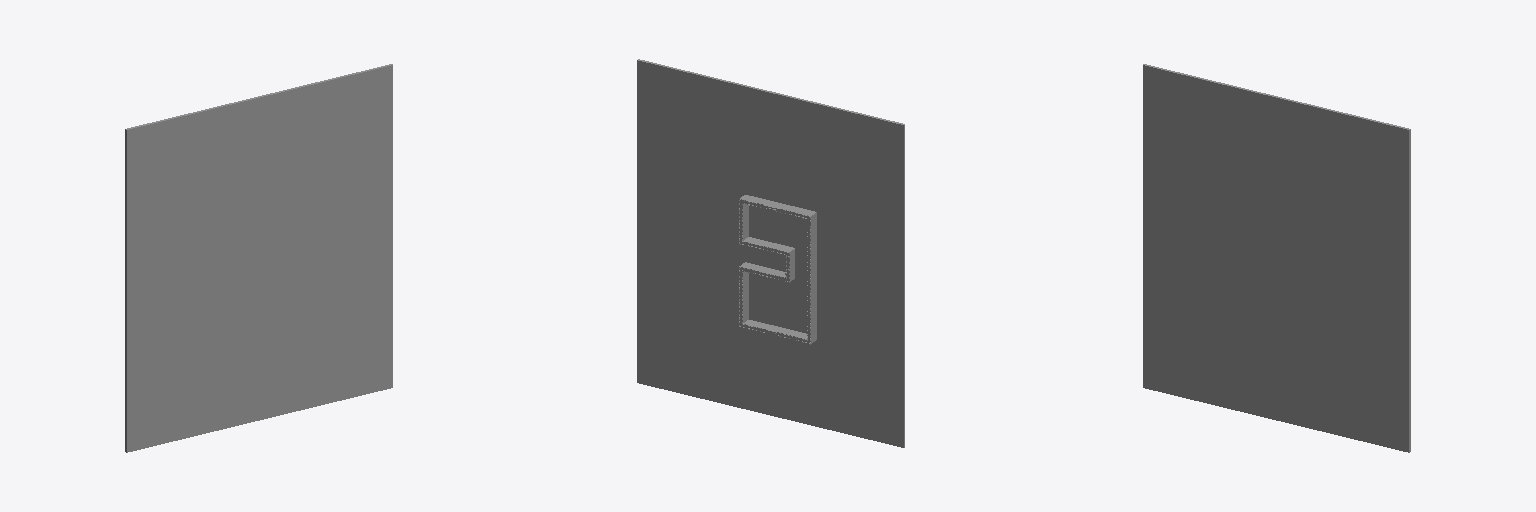
Rendered from Mapa02.obj.
3 renders of one model, left to right at view 1: azimuth 30°, elevation 25°; view 2: azimuth 150°, elevation 25°; view 3: azimuth 330°, elevation 25°, orthographic.
Parts seen in each view (by area): view 1: AAA_1_AAA_1_AAA_1_AAA_1; view 2: AAA_1_AAA_1_AAA_1_AAA_1; view 3: AAA_1_AAA_1_AAA_1_AAA_1.
Part boxes in pixels (x1,y1,x2,y2): AAA_1_AAA_1_AAA_1_AAA_1: (125,64,392,452); AAA_1_AAA_1_AAA_1_AAA_1: (637,59,904,447); AAA_1_AAA_1_AAA_1_AAA_1: (1143,64,1410,452).
Bounding box in the file's own units: 74.16 × 85.83 × 3.91.